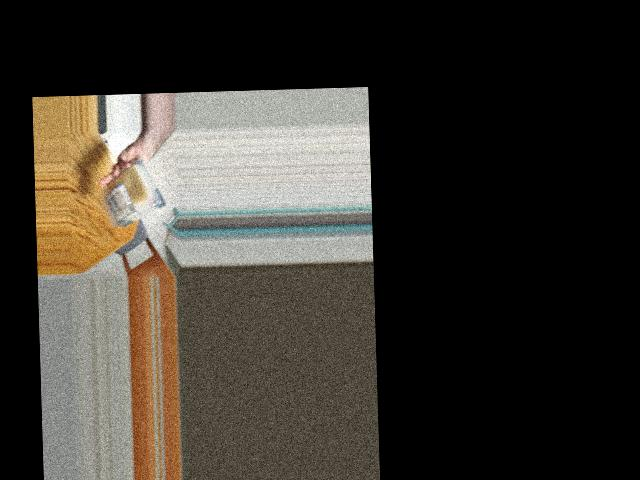cheese: (103, 163, 154, 225)
